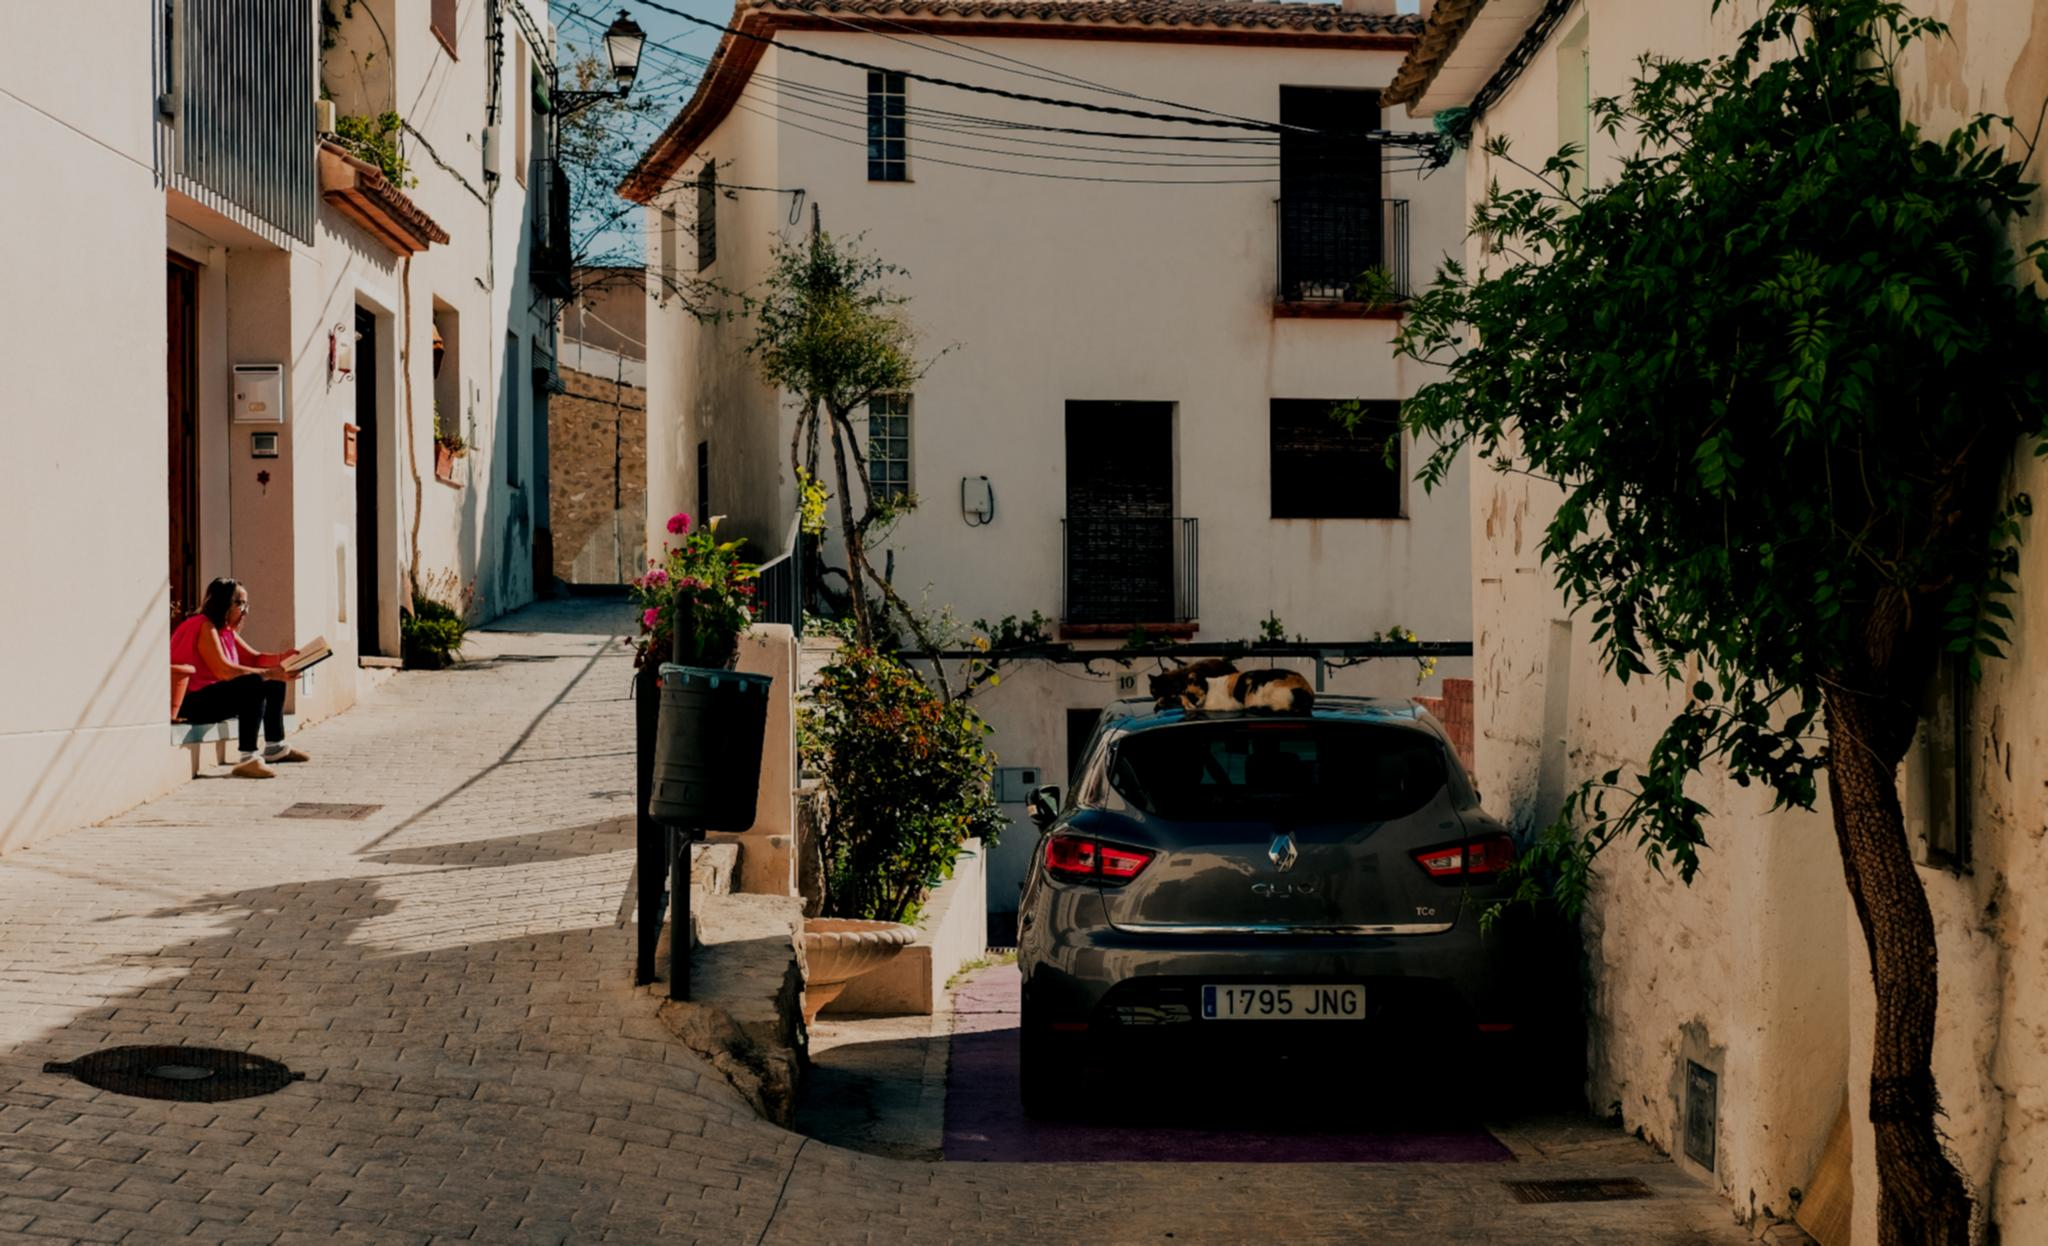Renault: (1257, 818, 1322, 889)
